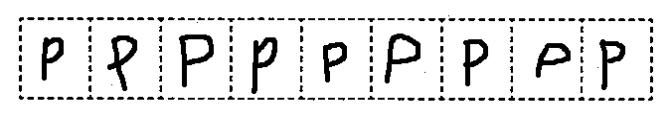P: (242, 32, 284, 95), (379, 29, 426, 85), (175, 29, 216, 91), (101, 32, 141, 93), (459, 34, 497, 92), (594, 36, 630, 94), (531, 38, 576, 79), (34, 33, 68, 84), (318, 37, 353, 86)
